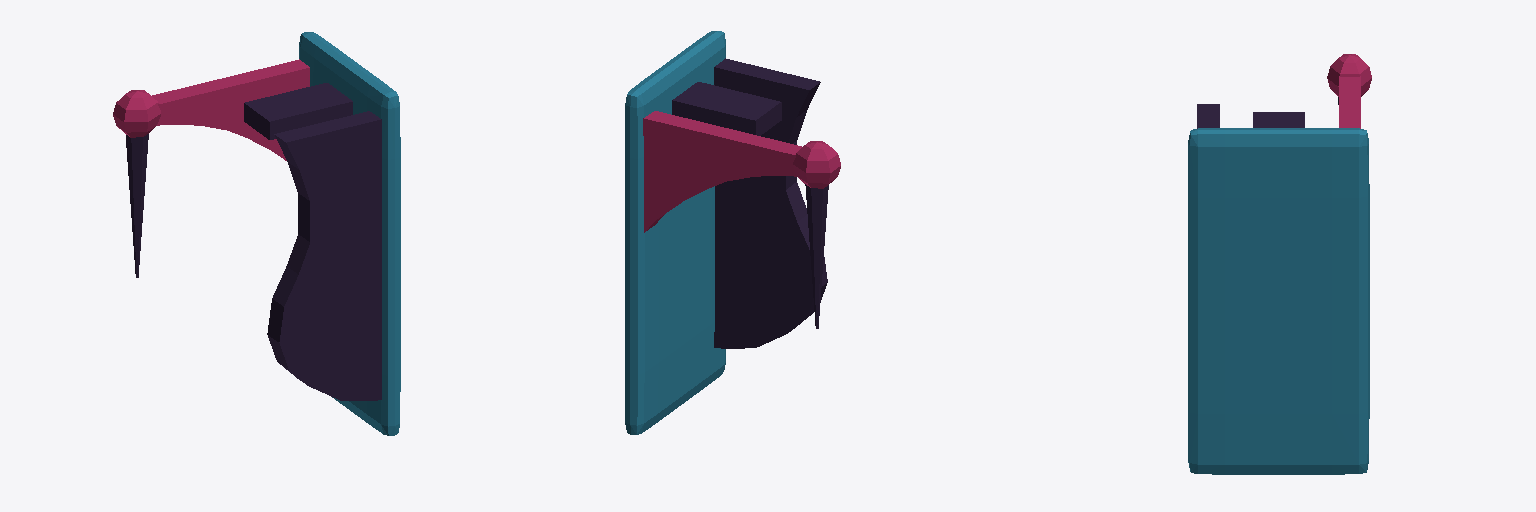
File: reference.obj
3 views of the same model, side by side, from view 1: azimuth 30°, elevation 25°; view 2: azimuth 150°, elevation 25°; view 3: azimuth 270°, elevation 25° (orthographic).
Visible parts, largest first — view 1: Cube.001; view 2: Cube.001; view 3: Cube.001.
Boxes of the visible parts, box(x1,y1,x2,y2) form: Cube.001: box(113, 32, 400, 435); Cube.001: box(625, 31, 840, 434); Cube.001: box(1188, 54, 1371, 474).
Bounding box in the file's own units: 1.16 × 1.85 × 0.8989.